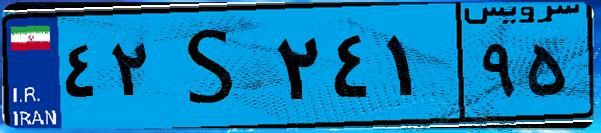1: (385, 28, 445, 110)
2: (270, 28, 330, 110), (110, 28, 158, 98)
4: (330, 28, 385, 110), (57, 26, 110, 100)
5: (525, 38, 570, 115)
9: (475, 38, 525, 113)
S: (158, 12, 270, 120)
